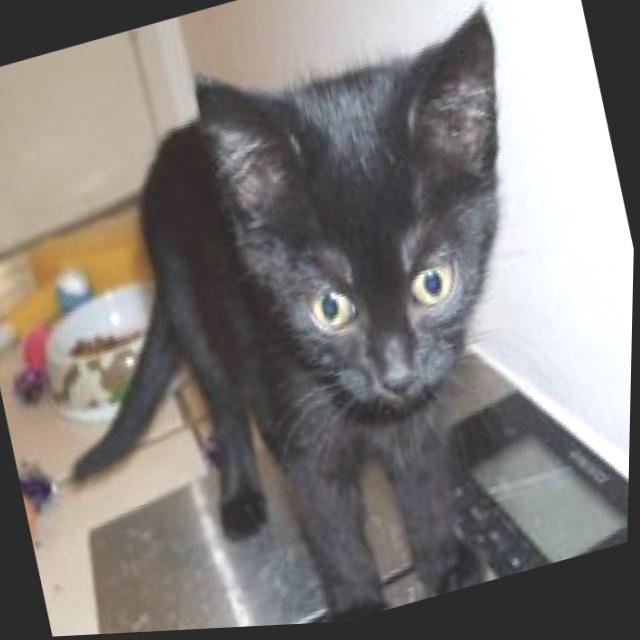Bombay: (0, 0, 616, 640)
